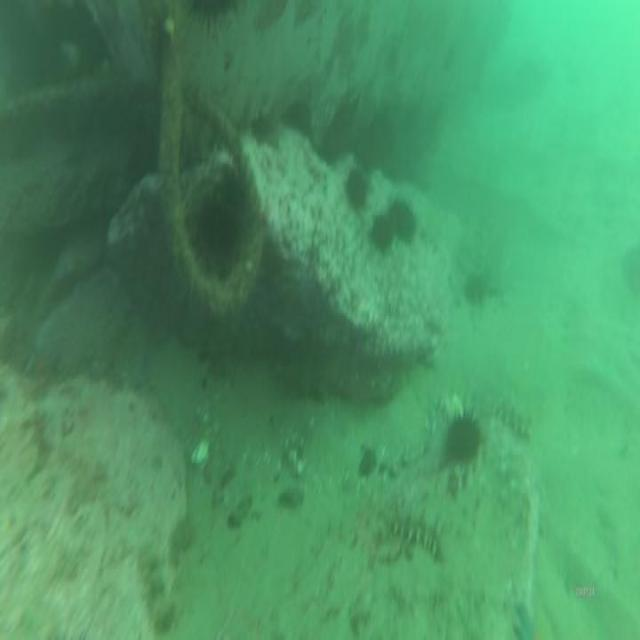echinus: (436, 397, 490, 469), (181, 0, 243, 41), (343, 161, 373, 217), (386, 194, 418, 245), (369, 207, 397, 258)
holothurian: (386, 499, 448, 569), (488, 398, 540, 442)
